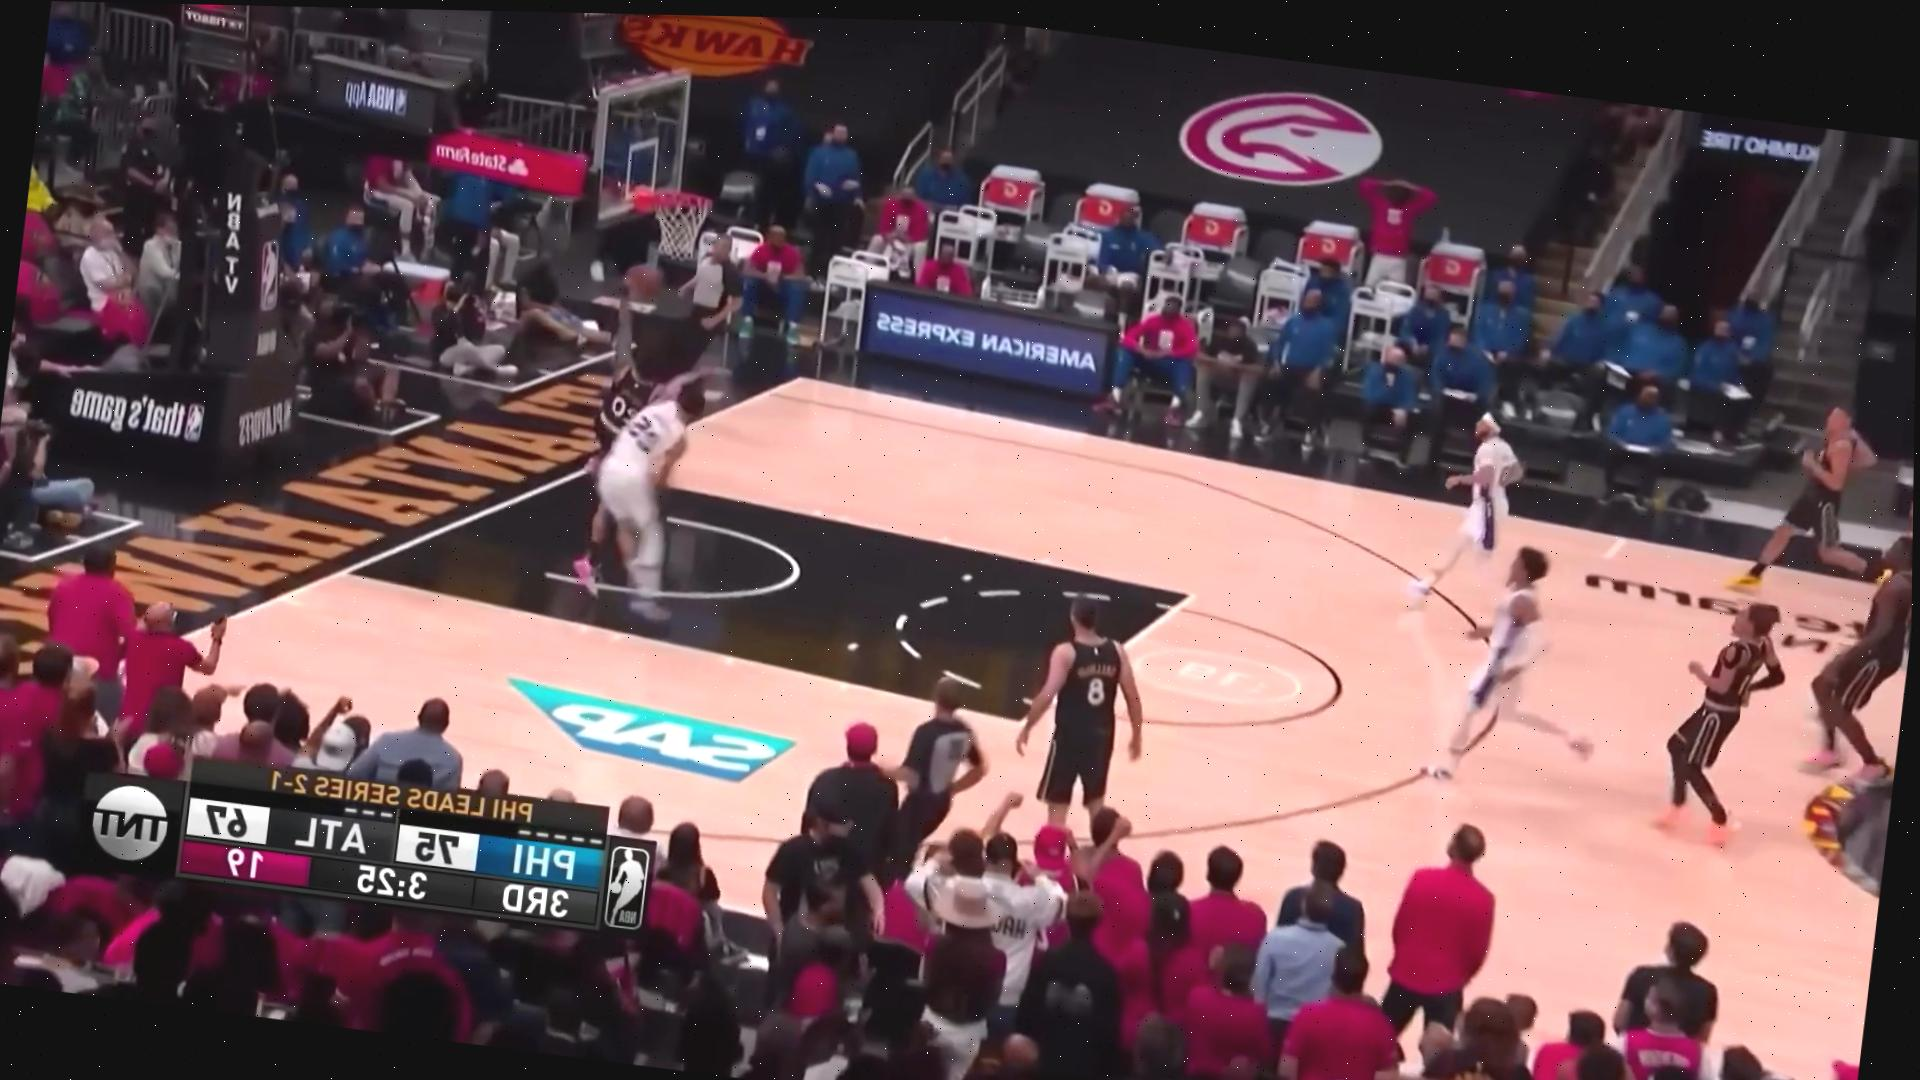foul: (553, 280, 728, 621)
